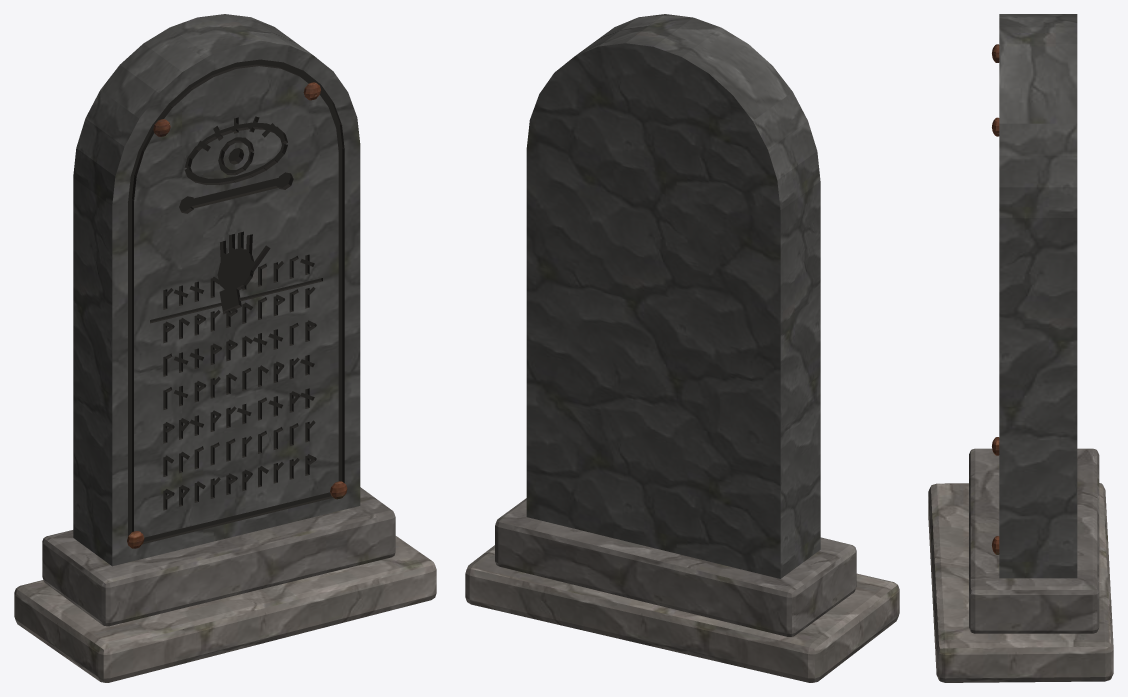
Rendered from vo_oath_tablet.glb.
The picture shows the model from 3 angles, left to right: view 1: azimuth 30°, elevation 25°; view 2: azimuth 150°, elevation 25°; view 3: azimuth 270°, elevation 25°; orthographic projection. The views are drawn at different scales.
Parts seen in each view (by area): view 1: model; view 2: model; view 3: model.
Part boxes in pixels (bbox=[...]): model: bbox=[14, 14, 436, 682]; model: bbox=[465, 14, 899, 682]; model: bbox=[928, 14, 1113, 682].
Bounding box in the file's own units: 0.9167 × 1.46 × 0.4271.
5 materials, 4 textured.
